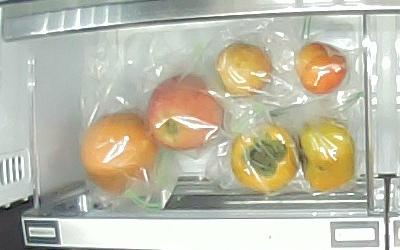apple_vinyl: (147, 74, 225, 150)
grapefruit_vinyl: (81, 113, 160, 195)
persimmon_vinyl: (231, 126, 299, 192), (299, 120, 355, 193)
prune_vinyl: (216, 42, 271, 96), (297, 42, 347, 96)
